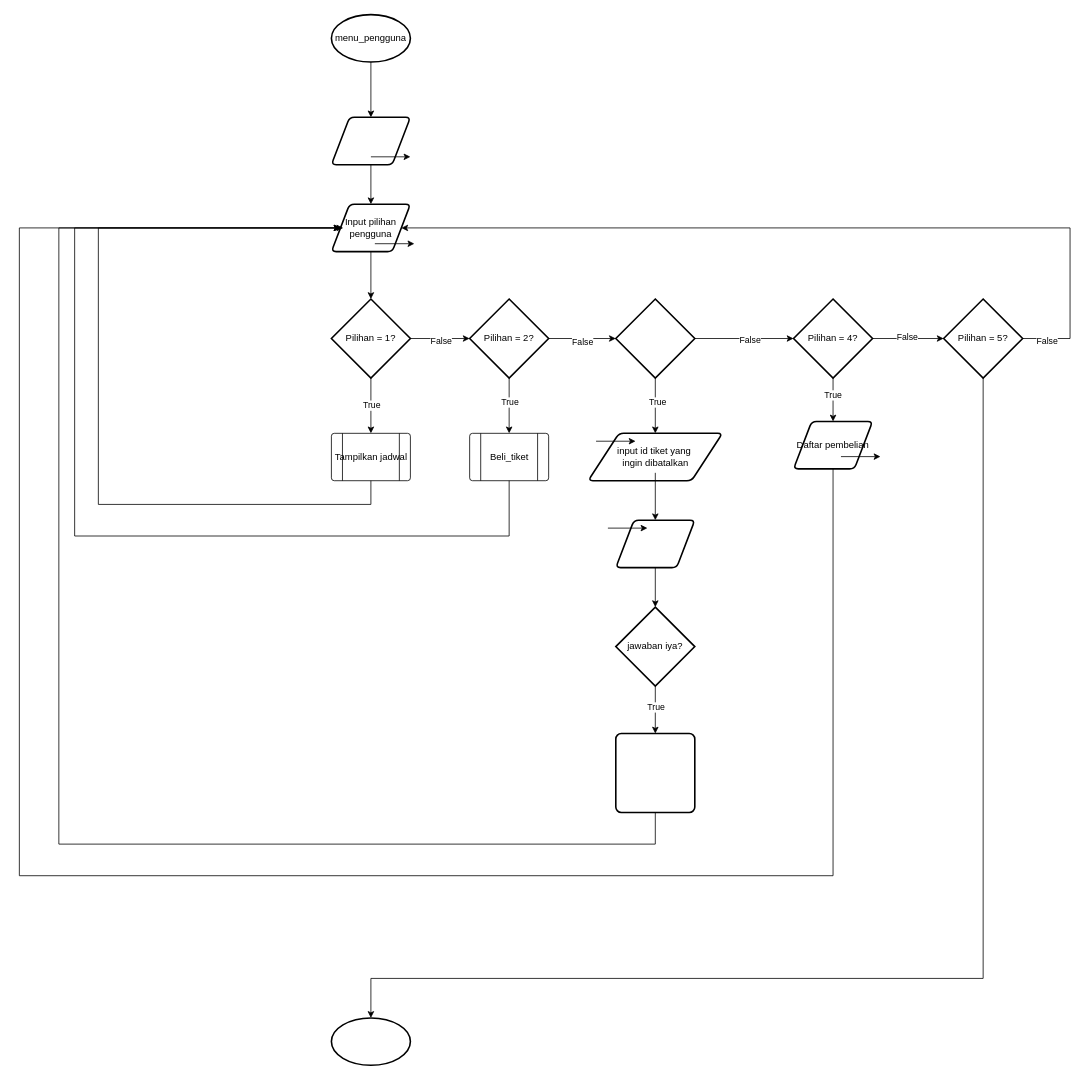
Some shapes in this 1090 by 1079 pixel diagram are drawn without their labels. Here are the shapes that lost their labels. From the top down, the box of each, then its label:
(330, 116, 411, 165): opsi menu pengguna
(615, 298, 695, 378): Pilihan = 3?
(615, 519, 695, 568): konfirmasi pembatalan
(615, 732, 695, 813): pembatalan tiket
(330, 1017, 411, 1066): END
